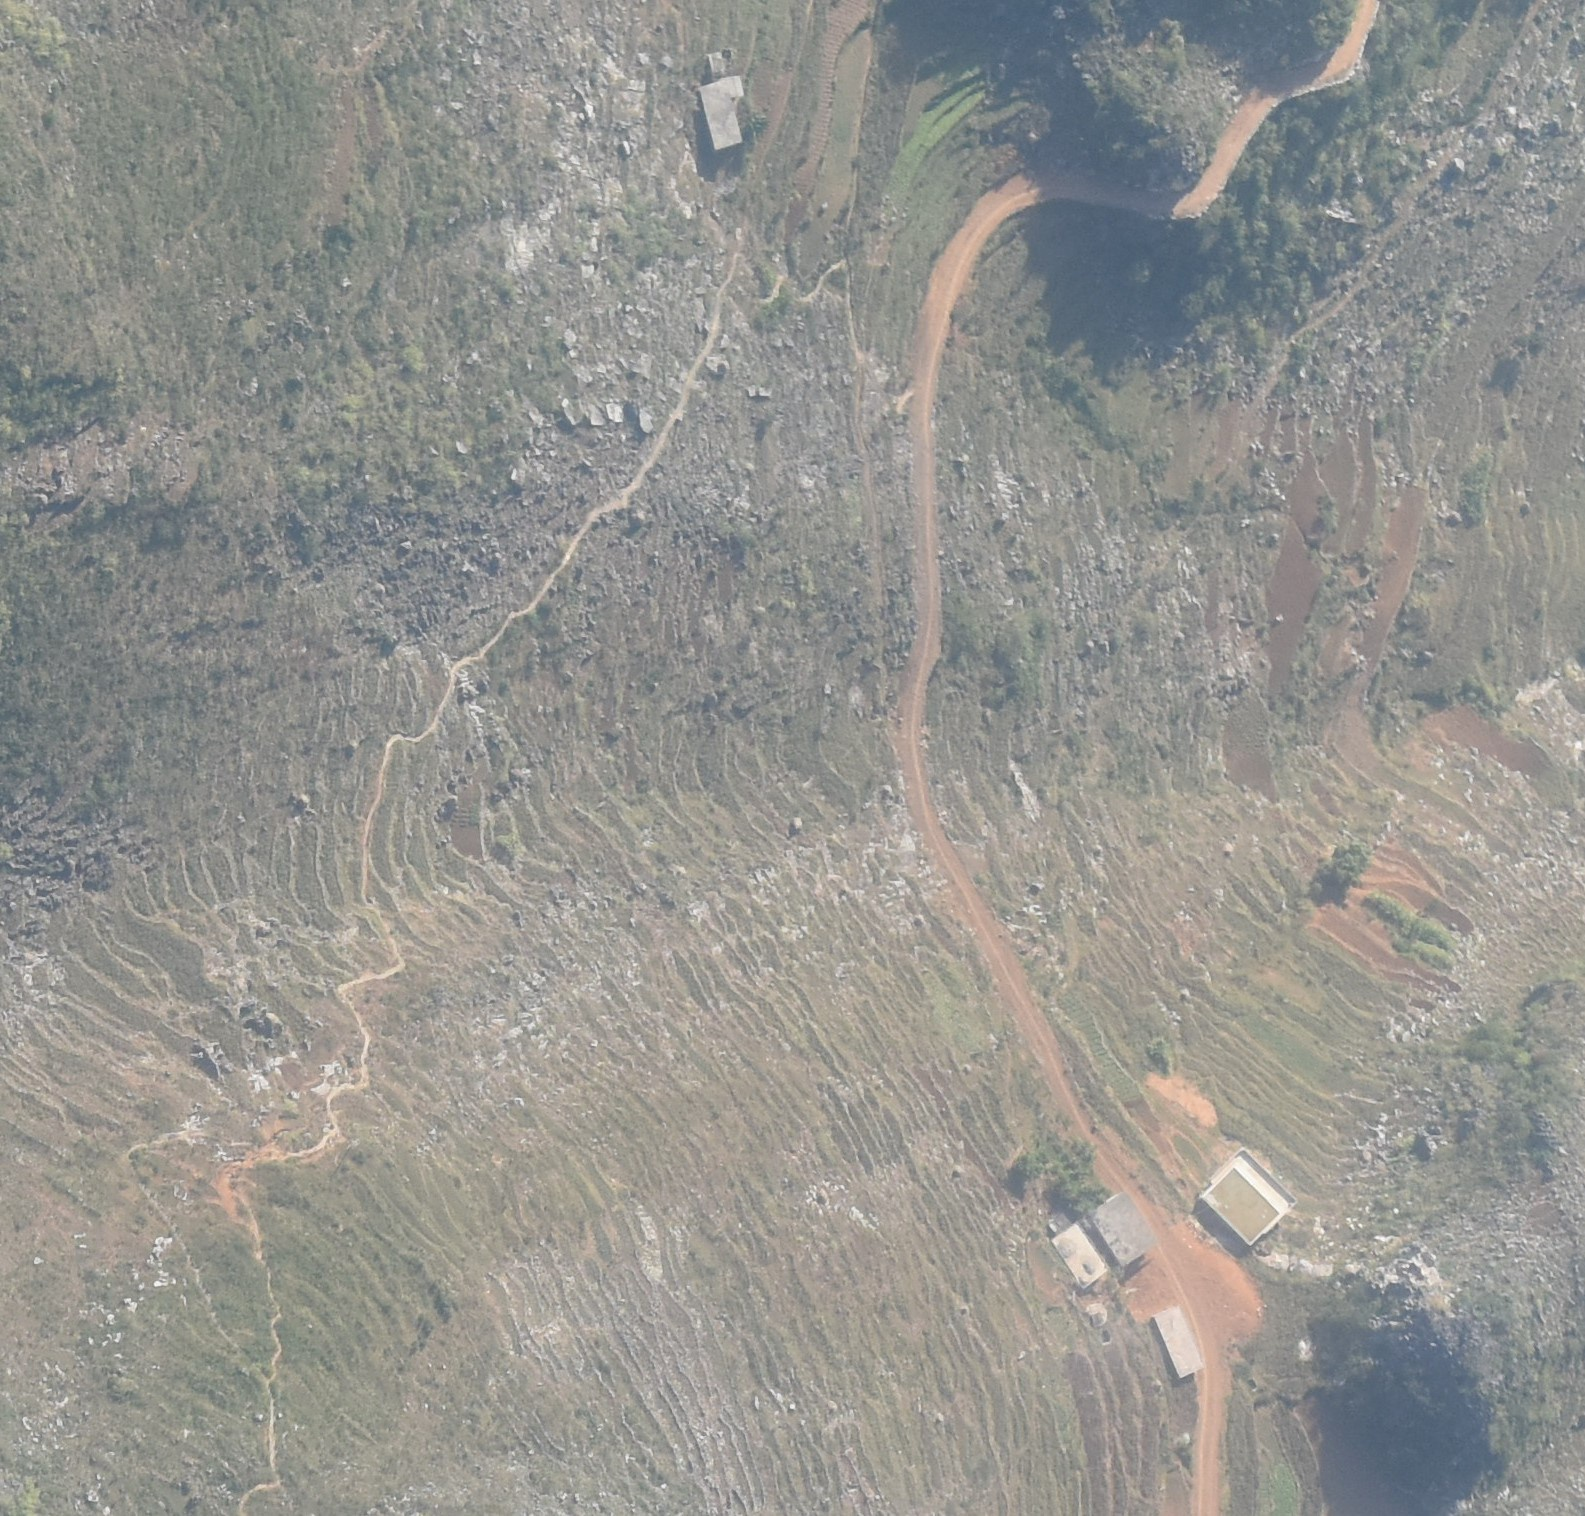building: (1200, 1145, 1296, 1244), (1090, 1189, 1153, 1268), (701, 49, 743, 152), (1151, 1303, 1203, 1378), (1049, 1223, 1107, 1289)
well: (1081, 1302, 1107, 1328)
